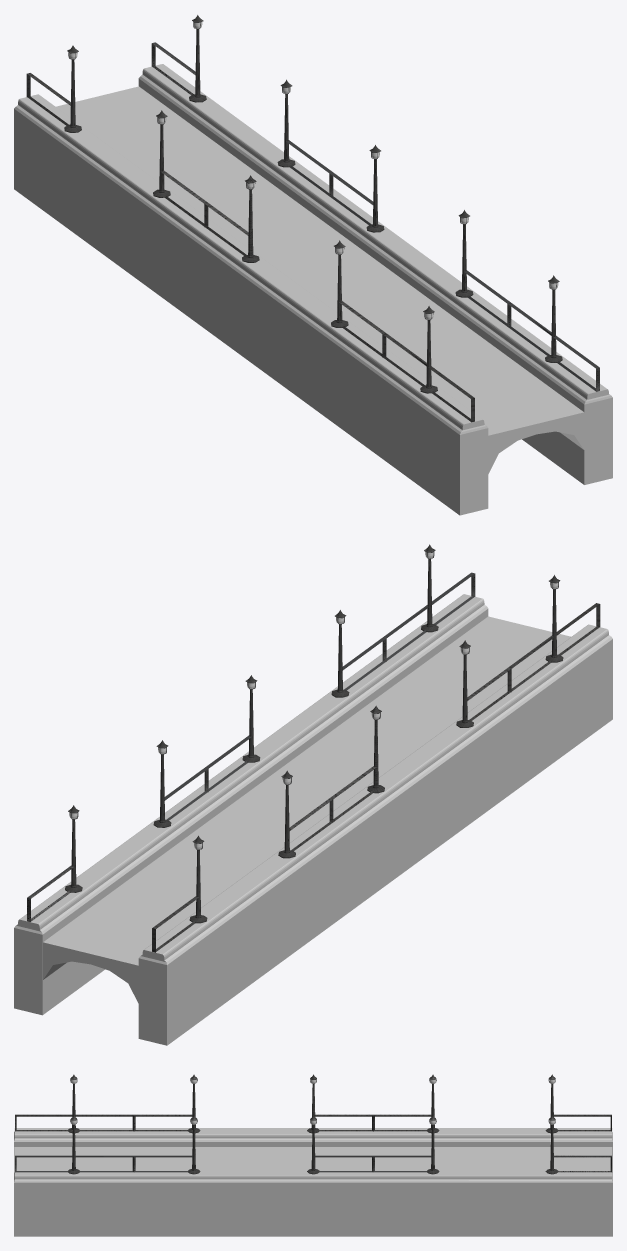
The model's file is bRIDGE CUZZZ with  lamps fin.fbx.
3 renders of one model, top to bottom at view 1: azimuth 30°, elevation 25°; view 2: azimuth 150°, elevation 25°; view 3: azimuth 270°, elevation 25°, orthographic. The views are drawn at different scales.
Visible parts, largest first — view 1: Cube, Cube.002, Cube.001, Plane.001, Plane; view 2: Cube, Cube.002, Cube.001, Plane, Plane.001; view 3: Cube.001, Cube.002, Cube, Plane.001, Plane, Plane.004, Plane.009, Plane.011, Plane.006, Plane.002.
Boxes of the visible parts, box(x1,y1,x2,y2) form: Cube: box(14, 94, 488, 515); Cube.002: box(56, 86, 584, 473); Cube.001: box(138, 64, 612, 484); Plane.001: box(151, 42, 599, 391); Plane: box(26, 73, 474, 422); Cube: box(138, 624, 612, 1045); Cube.002: box(43, 616, 571, 1003); Cube.001: box(14, 594, 488, 1015); Plane: box(152, 603, 600, 952); Plane.001: box(27, 572, 475, 921); Cube.001: box(14, 1169, 612, 1236); Cube.002: box(14, 1147, 612, 1171); Cube: box(14, 1128, 612, 1172); Plane.001: box(15, 1155, 611, 1172); Plane: box(15, 1114, 611, 1131); Plane.004: box(427, 1115, 439, 1174); Plane.009: box(188, 1115, 200, 1174); Plane.011: box(68, 1115, 79, 1174); Plane.006: box(545, 1115, 558, 1174); Plane.002: box(307, 1115, 319, 1174).
Bounding box in the file's own units: 398 × 432 × 2006.
